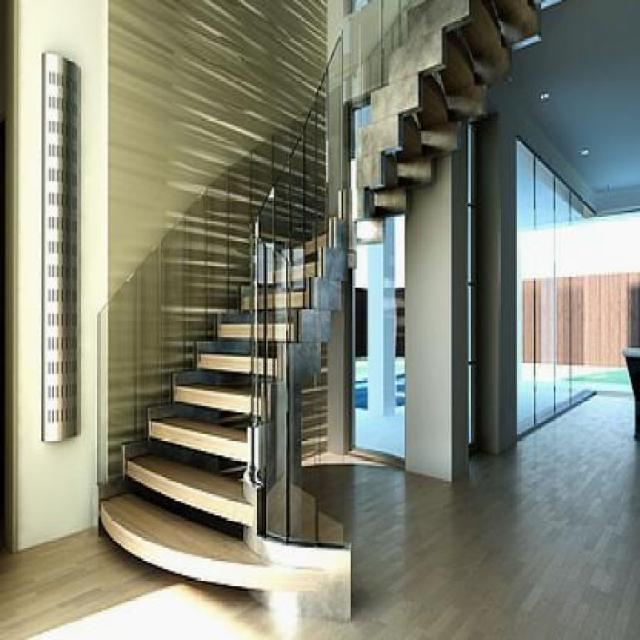stair: (91, 6, 358, 628)
